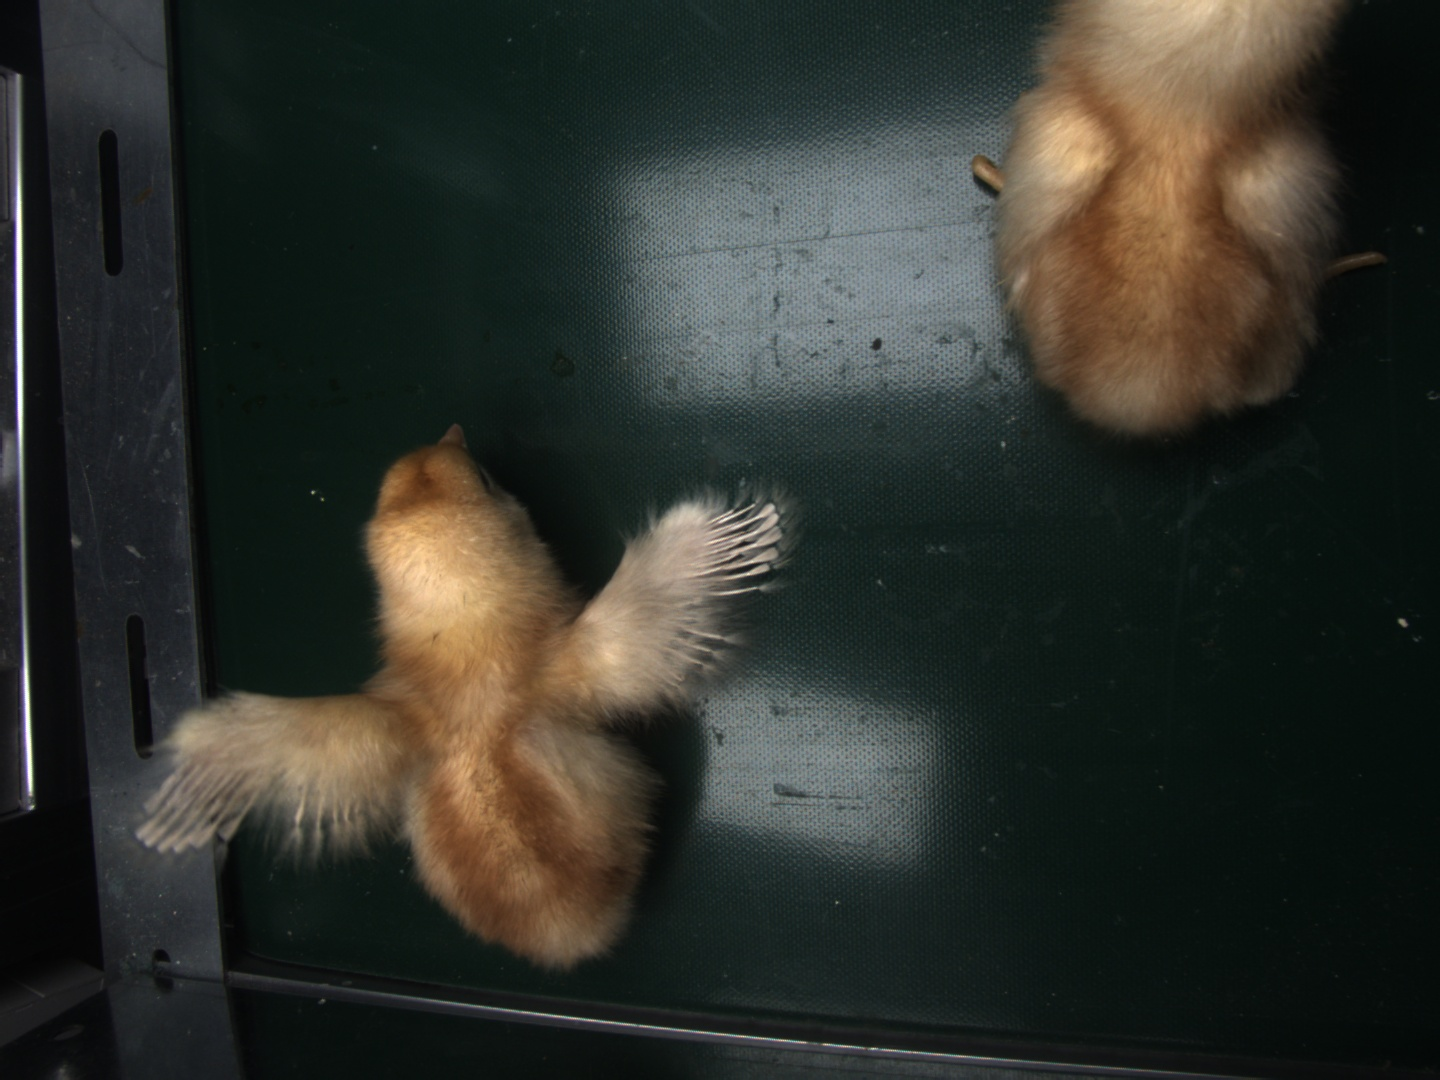female: (698, 504, 783, 591)
